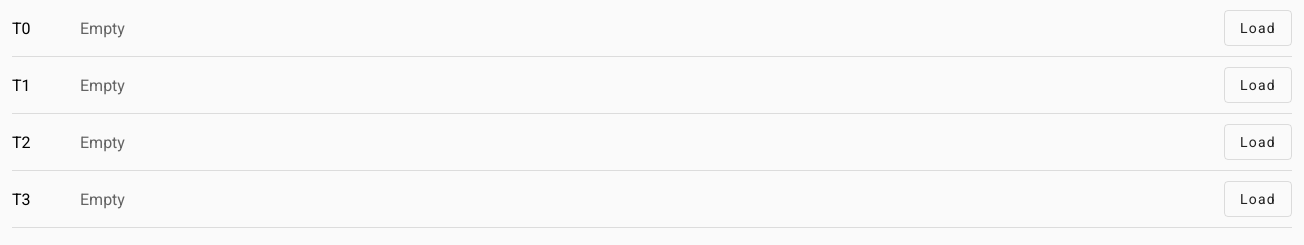
Scenario: PrinterSlotsComponent › loads the picked spool into the slot
The width and height of the screenshot is (1304, 245).
Click the button "Load" at (1258, 142), box [1224,124,1292,160]
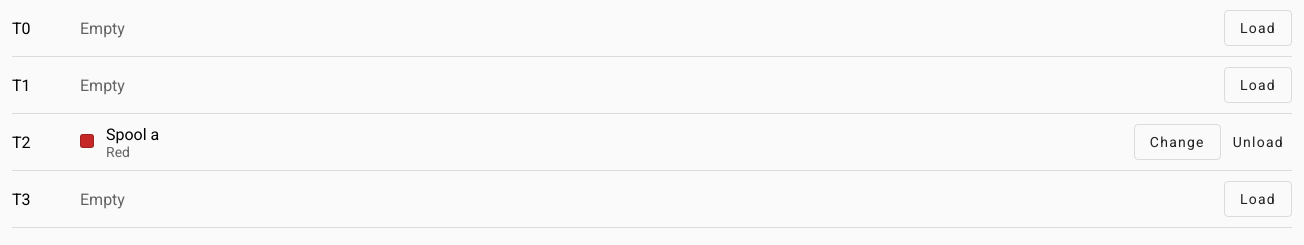
Now the list item with test id "printer-slot" shows "Spool a", box [106,124,159,144]
